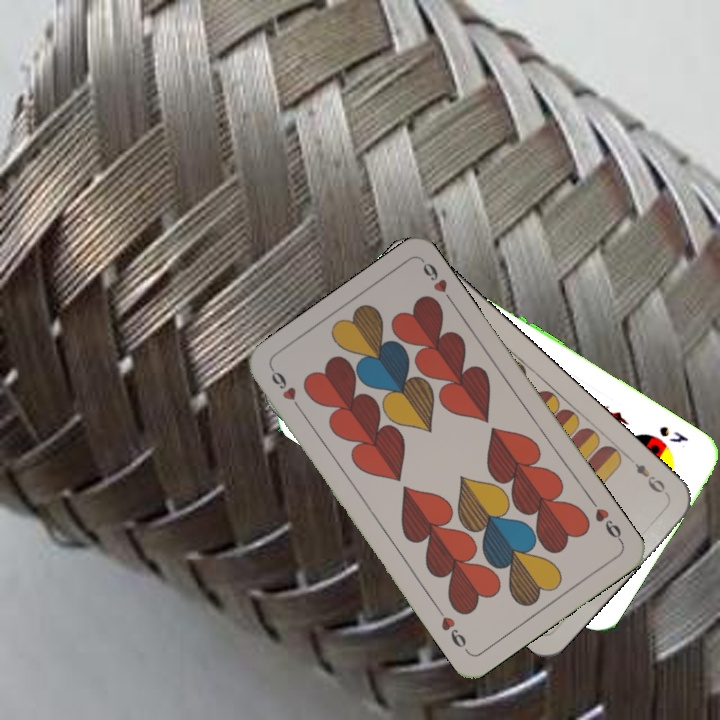E9: (630, 459, 671, 498)
H9: (586, 494, 626, 546), (267, 364, 306, 416)
SK: (655, 422, 691, 446)
